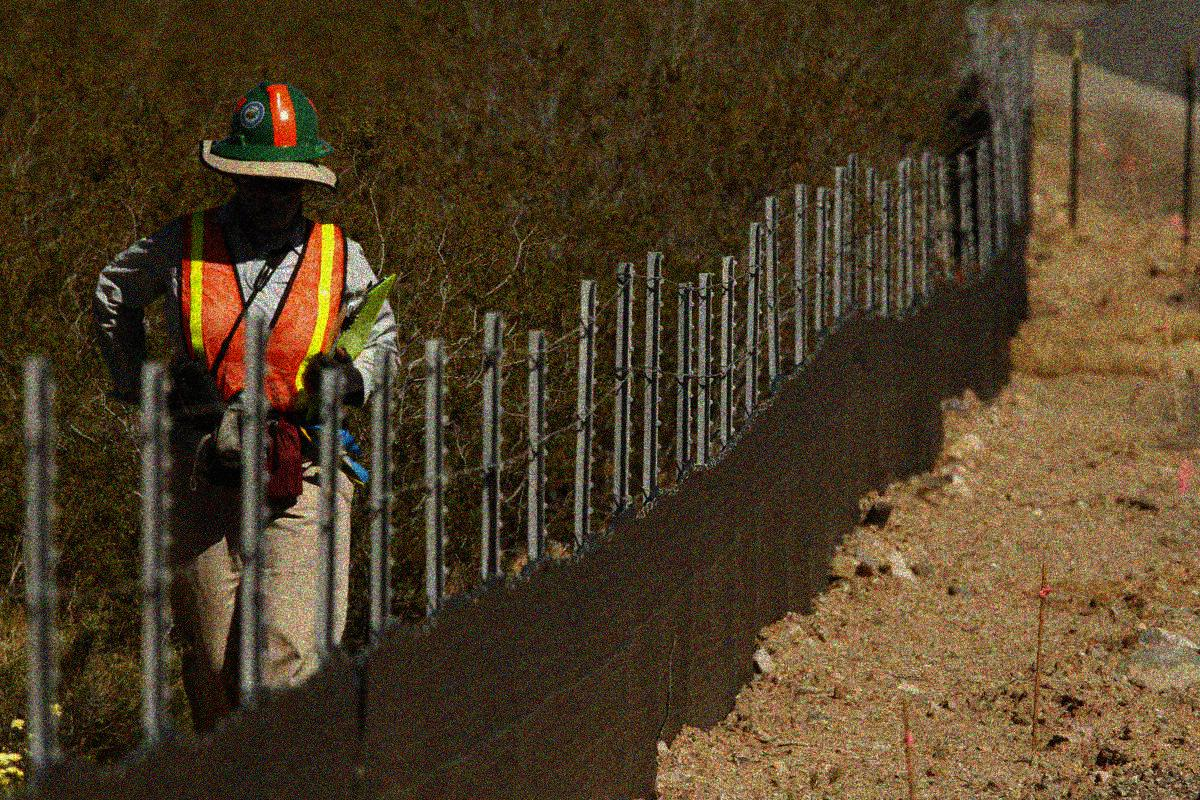helmet: (198, 77, 340, 231)
